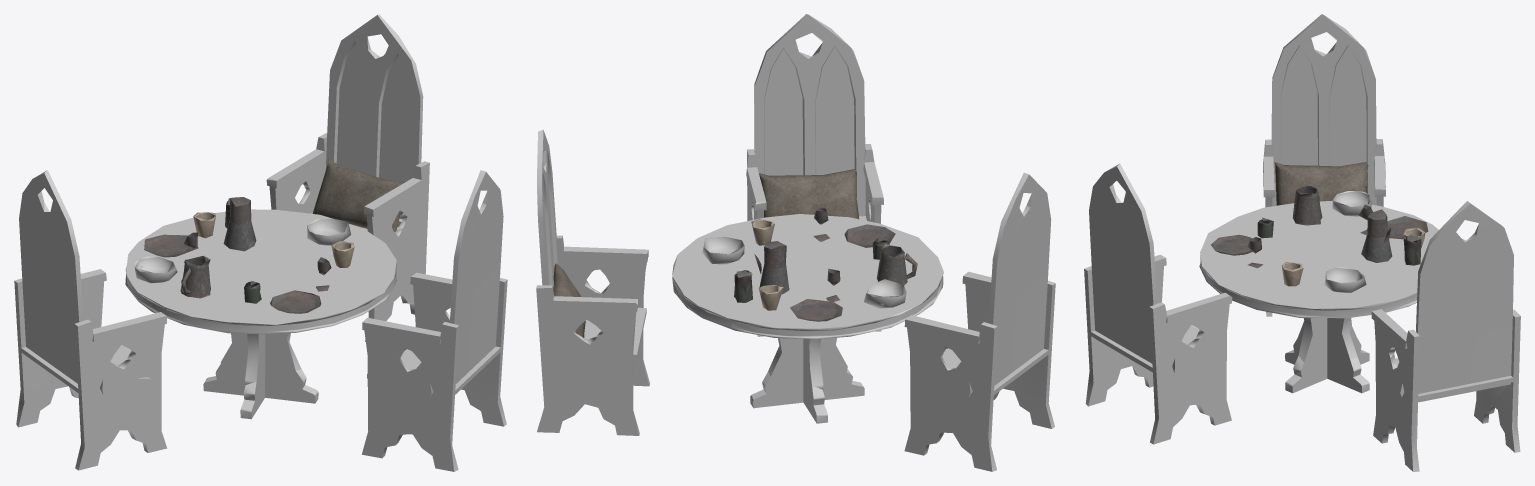
The model's file is SM_TableAndChairs.fbx.
3 renders of one model, left to right at view 1: azimuth 30°, elevation 25°; view 2: azimuth 150°, elevation 25°; view 3: azimuth 270°, elevation 25°, orthographic. The views are drawn at different scales.
Parts seen in each view (by area): view 1: SM_TableAndChairs_LOD0; view 2: SM_TableAndChairs_LOD0; view 3: SM_TableAndChairs_LOD0.
Part boxes in pixels (x1,y1,x2,y2): SM_TableAndChairs_LOD0: (14,14,507,471); SM_TableAndChairs_LOD0: (536,14,1055,471); SM_TableAndChairs_LOD0: (1084,14,1520,471).
Size of the model in its own units: 282 by 261 by 173.
